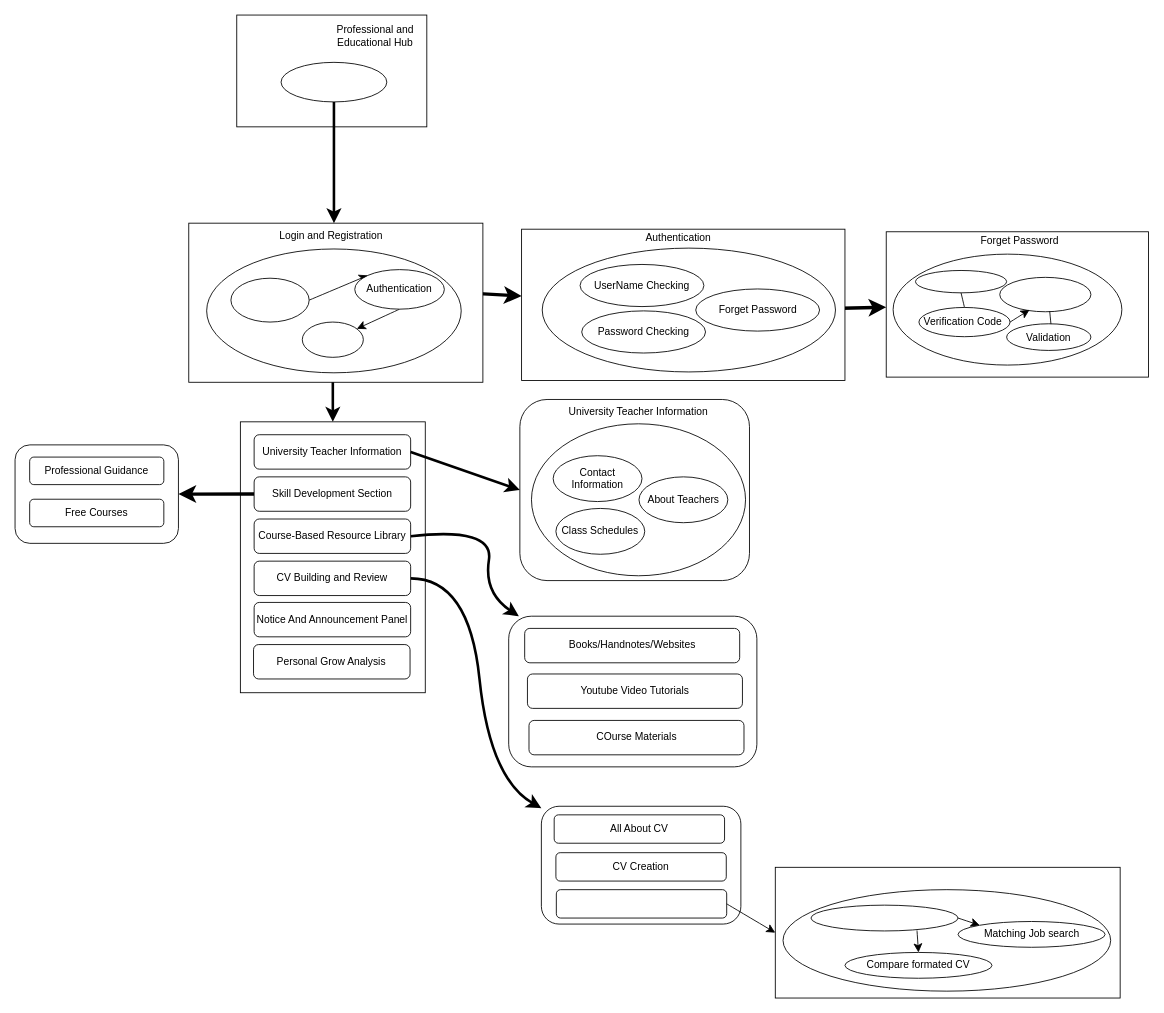
Some shapes in this 1164 by 1013 pixel diagram are drawn without their labels. Here are the shapes that lost their labels. From the top down, the centre of each, then its label:
point (333, 81): Home Page
point (269, 299): Registration
point (961, 281): Email check
point (1045, 294): Set new Password
point (332, 339): Login
point (641, 903): CV Review System
point (884, 917): AI for PDF reader
